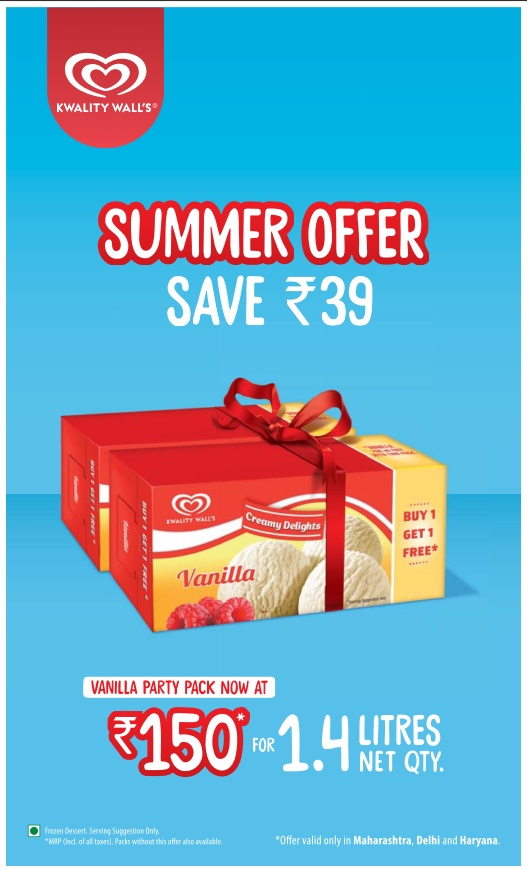Kwality_Walls: (52, 37, 156, 106), (161, 493, 227, 520)
